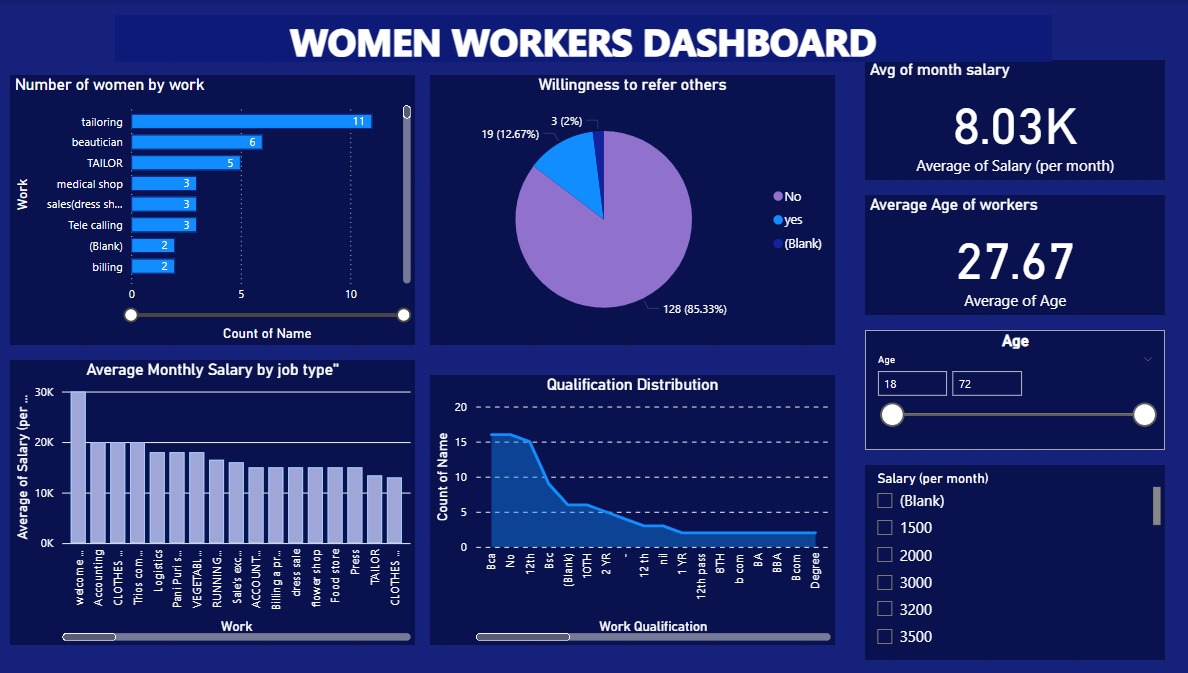

The page's visual inventory and layout, read from the dashboard file:
{"tool":"powerbi","page":{"name":"Page 1","canvas":[1280,720],"ordinal":0},"visuals":[{"type":"clusteredBarChart","title":"Number of women by work","fields":{"Y":["Count(Sheet1.Name)"],"Category":["Sheet1.Work"]},"box":[16,80,432,288],"z":0},{"type":"pieChart","title":"Willingness to refer others","fields":{"Category":["Sheet1.Can You Provide The Job Opprtunity To Other"],"Y":["CountNonNull(Sheet1.Name)"]},"box":[464,80,432,288],"z":1000},{"type":"card","title":"Avg of month salary","fields":{"Values":["Avg(Sheet1.Salary (per month))"]},"box":[928,64,320,128],"z":2000},{"type":"card","title":"Average  Age of workers","fields":{"Values":["Avg(Sheet1.Age)"]},"box":[928,208,320,128],"z":3000},{"type":"clusteredColumnChart","title":"Average Monthly Salary by job type\"","fields":{"Category":["Sheet1.Work"],"Y":["Avg(Sheet1.Salary (per month))"]},"box":[16,384,432,304],"z":4000},{"type":"stackedAreaChart","title":" Qualification Distribution","fields":{"Category":["Sheet1.Work Qualification"],"Y":["CountNonNull(Sheet1.Name)"]},"box":[464,400,432,288],"z":6000},{"type":"textbox","title":"WOMEN WORKERS DASHBOARD","box":[128,16,999,50],"z":7000},{"type":"slicer","title":"Age","fields":{"Values":["Sheet1.Age"]},"box":[928,352,320,128],"z":7001},{"type":"slicer","fields":{"Values":["Sheet1.Salary (per month)"]},"box":[928,496,320,208],"z":7002}]}

Visuals, with their boxes in screenshot pixels (x1, y1, x2, y2), scaled from the page's 1280x720 canvas onto the 1188x673 screenshot:
"Number of women by work" clusteredBarChart: BBox(15, 75, 416, 344)
"Willingness to refer others" pieChart: BBox(431, 75, 832, 344)
"Avg of month salary" card: BBox(861, 60, 1158, 179)
"Average  Age of workers" card: BBox(861, 194, 1158, 314)
"Average Monthly Salary by job type"" clusteredColumnChart: BBox(15, 359, 416, 643)
" Qualification Distribution" stackedAreaChart: BBox(431, 374, 832, 643)
"WOMEN WORKERS DASHBOARD" textbox: BBox(119, 15, 1046, 62)
"Age" slicer: BBox(861, 329, 1158, 449)
slicer - Sheet1.Salary (per month): BBox(861, 464, 1158, 658)
